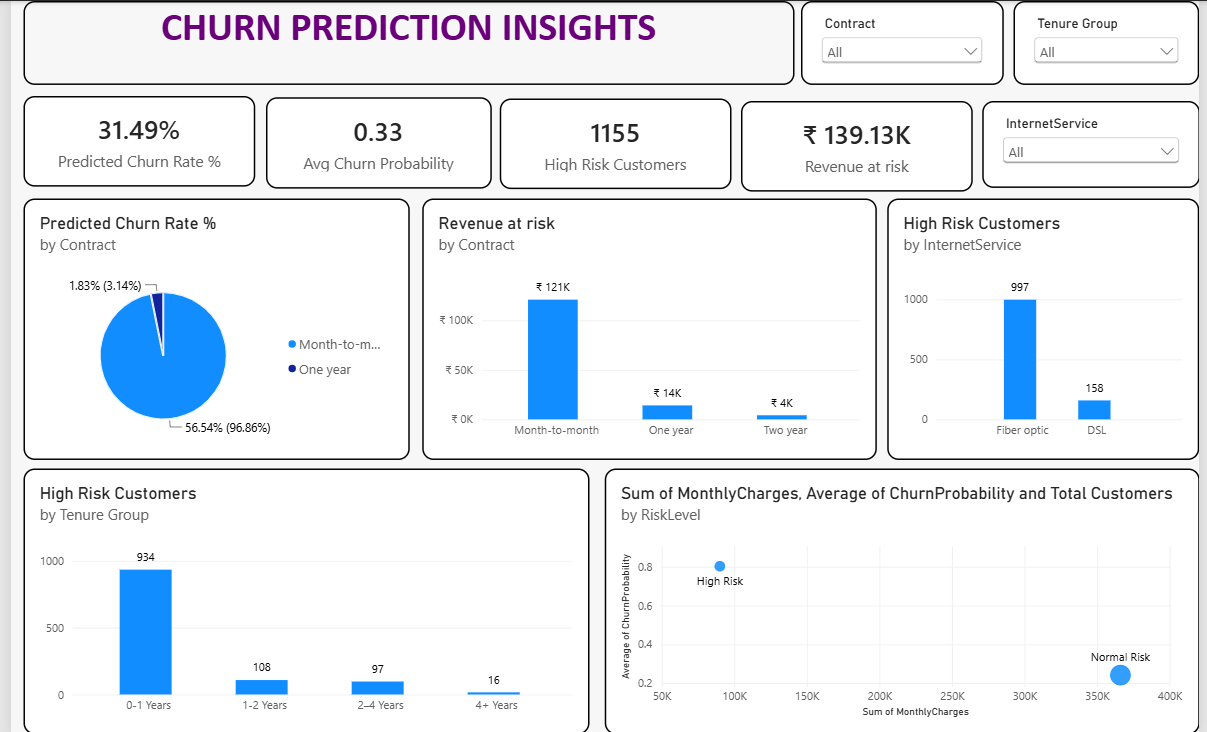

What the dashboard file says about the page in this screenshot:
{"tool":"powerbi","page":{"name":"PREDICTION INSIGHTS","canvas":[1280,790],"ordinal":1},"visuals":[{"type":"pieChart","fields":{"Category":["ChurnPredictions.Contract"],"Y":["ChurnPredictions.Predicted Churn Rate %"]},"box":[13.7,212.7,415.8,281.3],"z":0},{"type":"clusteredColumnChart","fields":{"Category":["ChurnPredictions.Contract"],"Y":["ChurnPredictions.Revenue at risk"]},"box":[443.2,212.7,489.9,281.3],"z":1000},{"type":"columnChart","fields":{"Category":["ChurnPredictions.Tenure Group"],"Y":["ChurnPredictions.High Risk Customers"]},"box":[13.7,503.6,609.3,286.8],"z":2000},{"type":"columnChart","fields":{"Category":["ChurnPredictions.InternetService"],"Y":["ChurnPredictions.High Risk Customers"]},"box":[944.1,212.7,336.2,281.3],"z":3000},{"type":"card","fields":{"Values":["ChurnPredictions.High Risk Customers"]},"box":[526.9,105.7,249.7,97.4],"z":4000},{"type":"card","fields":{"Values":["ChurnPredictions.Predicted Churn Rate %"]},"box":[13.7,102.9,249.7,97.4],"z":5000},{"type":"card","fields":{"Values":["ChurnPredictions.Revenue at risk"]},"box":[786.3,107,249.7,97.4],"z":6000},{"type":"card","fields":{"Values":["ChurnPredictions.Avg Churn Probability"]},"box":[274.4,104.3,242.9,98.8],"z":7000},{"type":"textbox","box":[13.7,0,830.2,90.6],"z":8000},{"type":"scatterChart","fields":{"Category":["ChurnPredictions.RiskLevel"],"Size":["ChurnPredictions.Total Customers"],"X":["Sum(ChurnPredictions.MonthlyCharges)"],"Y":["Avg(ChurnPredictions.ChurnProbability)"]},"box":[639.5,503.6,640.8,286.8],"z":9000},{"type":"slicer","fields":{"Values":["ChurnPredictions.Contract"]},"box":[850.8,0,218.2,90.6],"z":9001},{"type":"slicer","fields":{"Values":["ChurnPredictions.Tenure Group"]},"box":[1079.9,0,200.3,90.6],"z":9002},{"type":"slicer","fields":{"Values":["ChurnPredictions.InternetService"]},"box":[1045.6,107,234.6,93.3],"z":9003}]}

Visuals, with their boxes in screenshot pixels (x1, y1, x2, y2), scaled from the page's 1280x790 canvas onto the 1207x732 screenshot:
pieChart - ChurnPredictions.Contract x ChurnPredictions.Predicted Churn Rate %: 13,197,405,458
clusteredColumnChart - ChurnPredictions.Contract x ChurnPredictions.Revenue at risk: 418,197,880,458
columnChart - ChurnPredictions.Tenure Group x ChurnPredictions.High Risk Customers: 13,467,587,731
columnChart - ChurnPredictions.InternetService x ChurnPredictions.High Risk Customers: 890,197,1206,458
card - ChurnPredictions.High Risk Customers: 497,98,732,188
card - ChurnPredictions.Predicted Churn Rate %: 13,95,248,186
card - ChurnPredictions.Revenue at risk: 741,99,977,189
card - ChurnPredictions.Avg Churn Probability: 259,97,488,188
textbox: 13,0,796,84
scatterChart - ChurnPredictions.RiskLevel x ChurnPredictions.Total Customers: 603,467,1206,731
slicer - ChurnPredictions.Contract: 802,0,1008,84
slicer - ChurnPredictions.Tenure Group: 1018,0,1206,84
slicer - ChurnPredictions.InternetService: 986,99,1206,186
